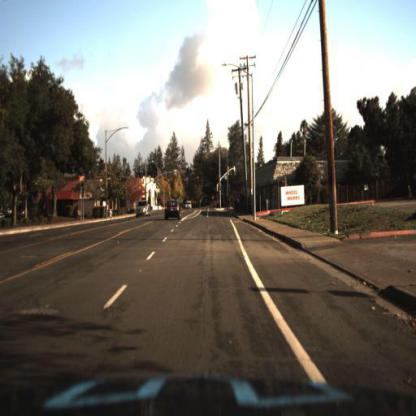car: (163, 199, 184, 224), (134, 198, 152, 221), (185, 201, 194, 214)
trafficLight-Red: (196, 176, 201, 188)
